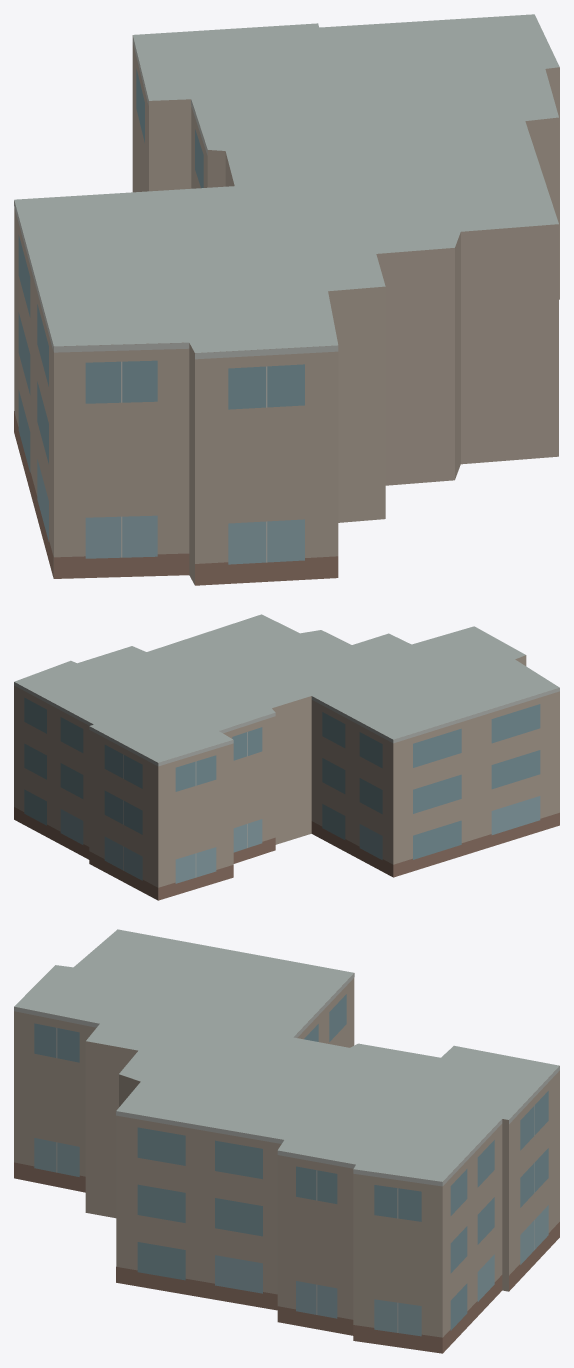
Rendered from survey-upis-32682609.glb.
The picture shows the model from 3 angles, top to bottom: view 1: azimuth 30°, elevation 25°; view 2: azimuth 150°, elevation 25°; view 3: azimuth 270°, elevation 25°; orthographic projection. The views are drawn at different scales.
Visible parts, largest first — view 1: survey-upis-32682609.tmp; view 2: survey-upis-32682609.tmp; view 3: survey-upis-32682609.tmp.
Part boxes in pixels (x1,y1,x2,y2): survey-upis-32682609.tmp: (14, 14, 559, 585); survey-upis-32682609.tmp: (14, 614, 559, 900); survey-upis-32682609.tmp: (14, 929, 559, 1353).
Size of the model in its own units: 28.88 by 9.15 by 26.37.
